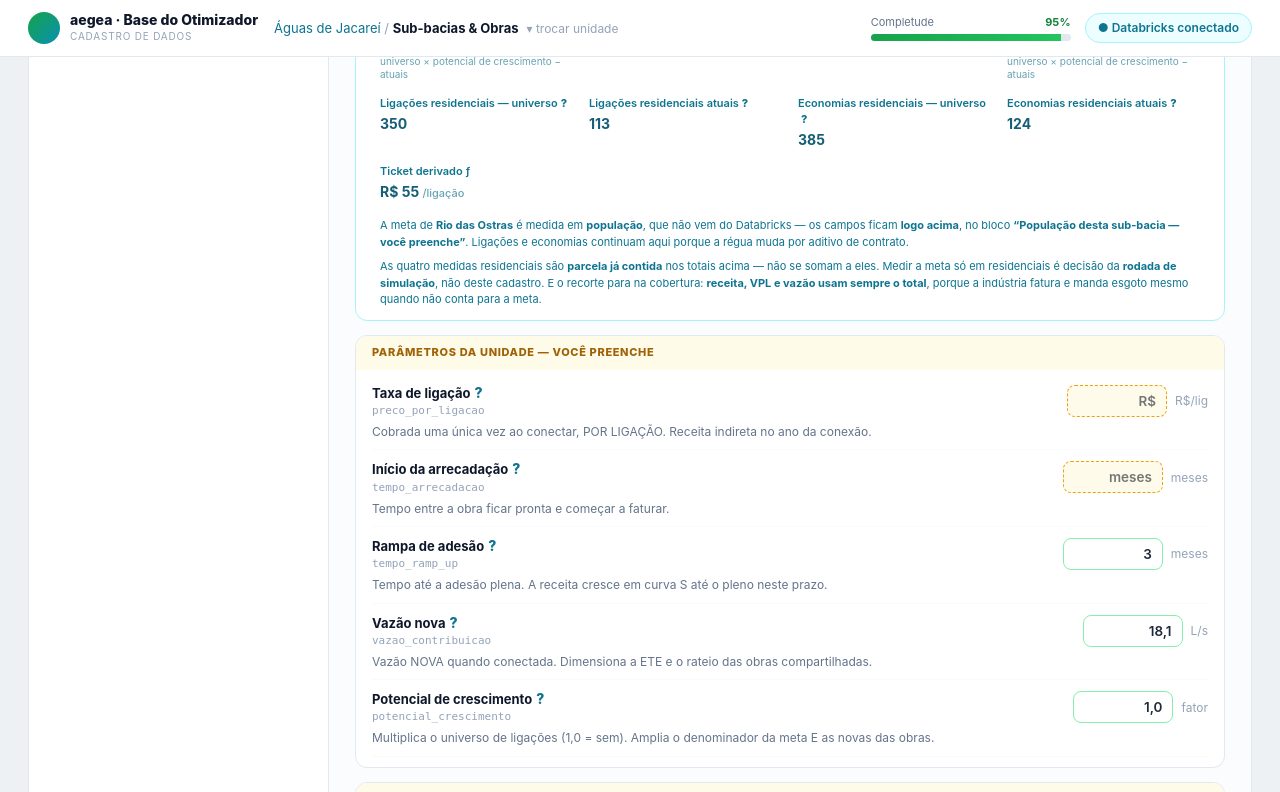
Test: Salvar só quando há o que salvar › o header conta as fichas pendentes de gravação
(page scrolled)
Check: the text "não salva" is not shown
Type "7" into the field labelled "Taxa de ligação".
click(1117, 401); type("7")  # box x1=1067 y1=385 x2=1167 y2=417
(page scrolled)
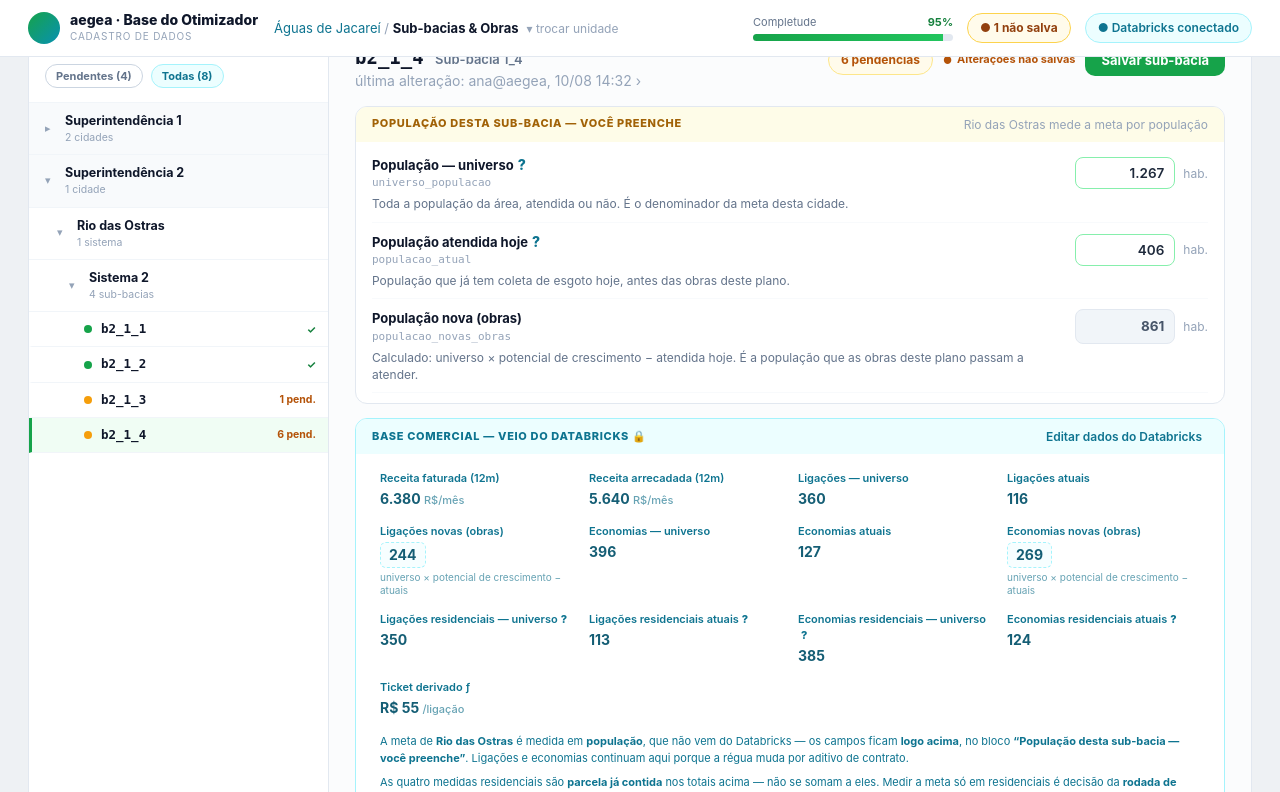
Check: the text "● 1 não salva" is shown, box x1=967 y1=13 x2=1071 y2=43
Click the button "b2_1_3 1 pend.".
click(124, 399)  # box x1=29 y1=383 x2=328 y2=418
(page scrolled)
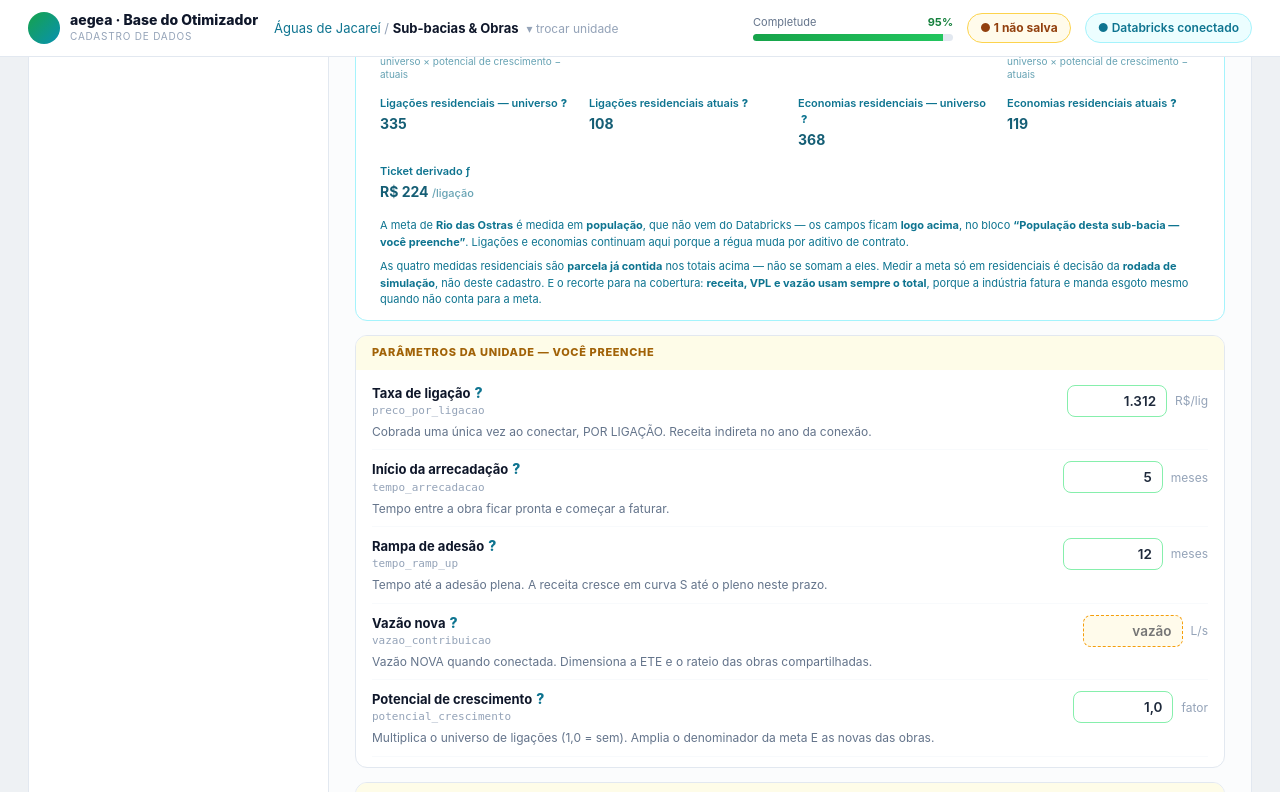
Replace the text in the field labelled "Taxa de ligação" with "8" at (1117, 401), box x1=1067 y1=385 x2=1167 y2=417
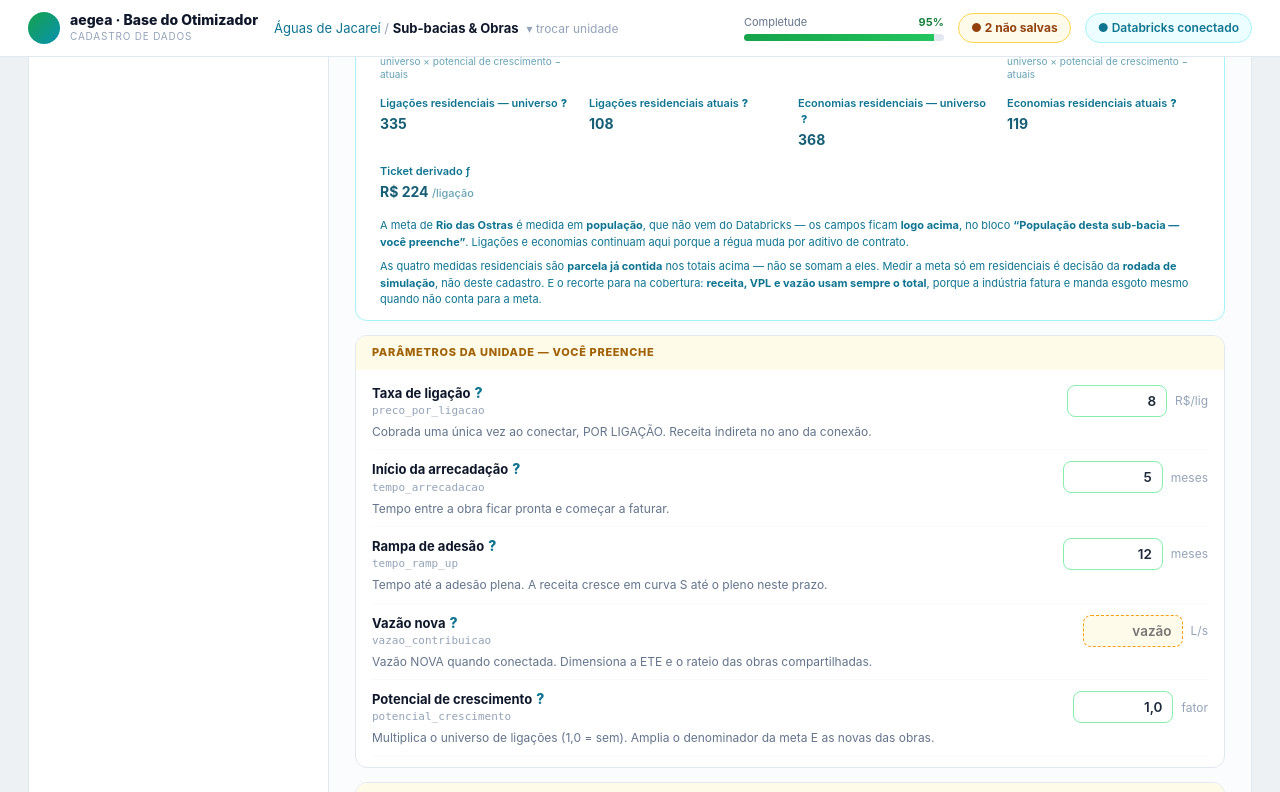
Check: the text "● 2 não salvas" is shown, box x1=958 y1=13 x2=1071 y2=43
